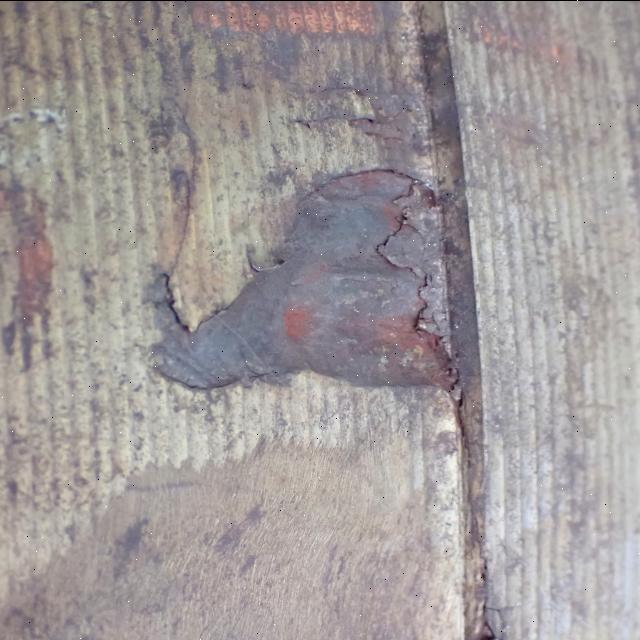boli: (126, 176, 478, 418)
